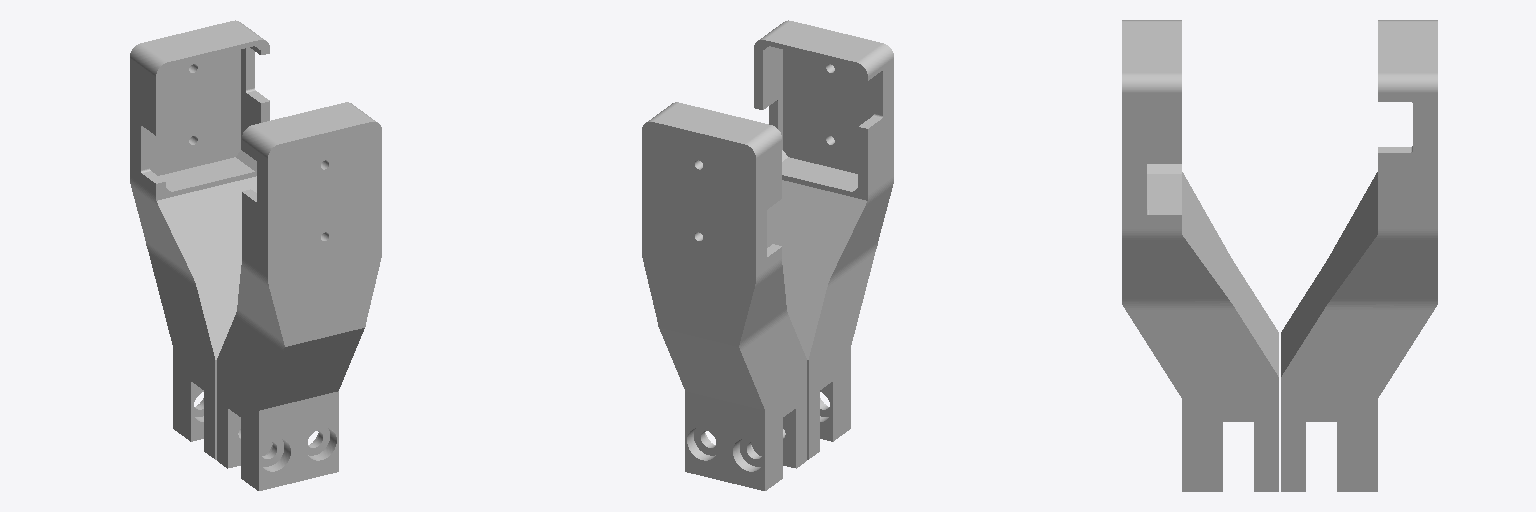
The robot description file, URDF, robot "hand":
<?xml version="1.0" ?>
<robot name="hand">
  <link name="panda_hand">
    <visual>
      <geometry>
        <mesh filename="package://urdf_rviz_display/franka_panda_description/meshes/visual/hand.dae"/>
      </geometry>
    </visual>
    <collision>
      <geometry>
        <mesh filename="package://urdf_rviz_display/franka_panda_description/meshes/collision/hand.stl"/>
      </geometry>
    </collision>
    <inertial>
      <origin rpy="0 0 0" xyz="0 0.0015244 0.0275912"/>
      <mass value="0.73"/>
      <inertia ixx="0.00278560230025" ixy="0.0" ixz="0.0" iyy="0.000400033405336" iyz="0.0" izz="0.00256378041832"/>
    </inertial>
  </link>
  <link name="panda_left_adapt_finger">
    <visual>
      <!-- some adjustment on origin coor -->
      <!-- <origin rpy="0 0 0" xyz="0 0 0"/> -->
      <origin rpy="-1.570796327 0 0" xyz="0 0 0"/>
      <geometry>
        <mesh filename="package://urdf_rviz_display/franka_panda_description/meshes/visual/finger_gsmini_adapter.dae"/>
      </geometry>
    </visual>
    <collision>
      <!-- <origin rpy="0 0 0" xyz="0 0 0"/> -->
      <origin rpy="-1.570796327 0 0" xyz="0 0 0"/>
      <geometry>
        <mesh filename="package://urdf_rviz_display/franka_panda_description/meshes/collision/finger_gsmini_adapter.stl"/>
      </geometry>
    </collision>
    <!-- no more inertial info -->
  </link>
  <link name="panda_right_adapt_finger">
    <visual>
      <!-- <origin rpy="0 0 3.141592653589793" xyz="0 0 0"/> -->
      <origin rpy="-1.570796327 0 3.141592653589793" xyz="0 0 0"/>
      <geometry>
        <mesh filename="package://urdf_rviz_display/franka_panda_description/meshes/visual/finger_gsmini_adapter.dae"/>
      </geometry>
    </visual>
    <collision>
      <!-- <origin rpy="0 0 3.141592653589793" xyz="0 0 0"/> -->
      <origin rpy="-1.570796327 0 3.141592653589793" xyz="0 0 0"/>
      <geometry>
        <mesh filename="package://urdf_rviz_display/franka_panda_description/meshes/collision/finger_gsmini_adapter.stl"/>
      </geometry>
    </collision>
    <!-- no more inertial info -->
  </link>
  <link name="gsmini_left">
    <visual>
      <origin rpy="-1.570796327 -1.570796327 0" xyz="0 0 0"/>
      <geometry>
        <mesh filename="package://urdf_rviz_display/franka_panda_description/meshes/visual/gsmini.dae"/>
      </geometry>
    </visual>
    <collision>
      <origin rpy="-1.570796327 -1.570796327 0" xyz="0 0 0"/>
      <geometry>
        <mesh filename="package://urdf_rviz_display/franka_panda_description/meshes/collision/gsmini.stl"/>
      </geometry>
    </collision>
  </link>
  <link name="gsmini_right">
    <visual>
      <origin rpy="1.570796327 1.570796327 0" xyz="0 0 0"/>
      <geometry>
        <mesh filename="package://urdf_rviz_display/franka_panda_description/meshes/visual/gsmini.dae"/>
      </geometry>
    </visual>
    <collision>
      <origin rpy="1.570796327 1.570796327 0" xyz="0 0 0"/>
      <geometry>
        <mesh filename="package://urdf_rviz_display/franka_panda_description/meshes/collision/gsmini.stl"/>
      </geometry>
    </collision>
  </link>
  
  <joint name="panda_finger_joint_left" type="prismatic">
    <parent link="panda_hand"/>
    <child link="panda_left_adapt_finger"/>
    <!-- some adjustment -->
    <!-- old <origin rpy="0 0 0" xyz="0 0 0.0584"/> -->
    <!-- new origin xyz = "0 (0 + 0.0114) (0.0584 + 0.0186) " -->
    <origin rpy="0 0 0" xyz="0 0.0114 0.0770"/>
    <axis xyz="0 1 0"/>
    <limit effort="20" lower="0.0" upper="0.04" velocity="0.2"/>
    <dynamics damping="500.0" friction="0.0"/>
  </joint>
  <joint name="panda_finger_joint_right" type="prismatic">
    <parent link="panda_hand"/>
    <child link="panda_right_adapt_finger"/>
    <!-- old <origin rpy="0 0 0" xyz="0 0 0.0584"/> -->
    <!-- new <origin xyz="0 (0 - 0.0114) (0.0584 + 0.0186)"/> -->
    <origin rpy="0 0 0" xyz="0 -0.0114 0.0770"/>
    <axis xyz="0 -1 0"/>
    <limit effort="20" lower="0.0" upper="0.04" velocity="0.2"/>
    <dynamics damping="500.0" friction="0.0"/>
    <mimic joint="panda_finger_joint_left"/>
  </joint>
  <joint name="finger_gsmini_joint_left" type="fixed">
    <parent link="panda_left_adapt_finger"/>
    <child link="gsmini_left"/>
    <origin rpy="0 0 -1.570796327" xyz="0 0.0120 0.0600"/>
  </joint>
  <joint name="finger_gsmini_joint_right" type="fixed">
    <parent link="panda_right_adapt_finger"/>
    <child link="gsmini_right"/>
    <origin rpy="0 0 1.570796327" xyz="0 -0.0120 0.0600"/>
  </joint>
</robot>

--- What the picture shows (computed from the rendered views, not written in the file) ---
3 views of the same robot in one strip: view 1: azimuth 30°, elevation 25°; view 2: azimuth 150°, elevation 25°; view 3: azimuth 270°, elevation 25° (orthographic).
Model hand with 5 links and 4 joints (2 prismatic, 2 fixed), rooted at panda_hand, posed every joint at zero.
Visible links, largest first — view 1: panda_right_adapt_finger, panda_left_adapt_finger; view 2: panda_left_adapt_finger, panda_right_adapt_finger; view 3: panda_right_adapt_finger, panda_left_adapt_finger.
Boxes of the visible links, left/top/right/bottom form: panda_right_adapt_finger: left=217, top=102, right=381, bottom=490; panda_left_adapt_finger: left=130, top=20, right=269, bottom=459; panda_left_adapt_finger: left=642, top=102, right=806, bottom=490; panda_right_adapt_finger: left=754, top=20, right=893, bottom=459; panda_right_adapt_finger: left=1122, top=20, right=1278, bottom=491; panda_left_adapt_finger: left=1281, top=20, right=1437, bottom=491.
Size in the robot's own frame: 0.03 by 0.0628 by 0.0923 metres.
2 mesh visuals loaded from 3 distinct referenced files (1 Collada DAE); not drawn: 3 (reference not matched to a file when rendering).